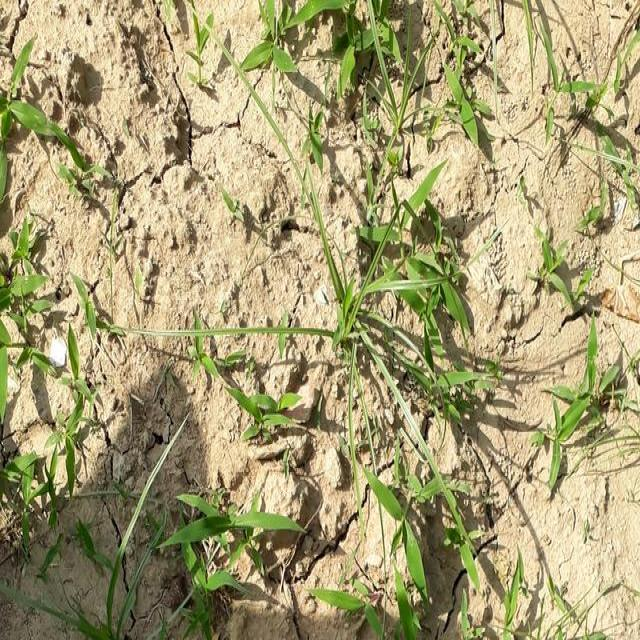weed: (346, 178, 501, 429), (238, 0, 406, 137), (158, 500, 308, 637), (355, 460, 438, 640)
